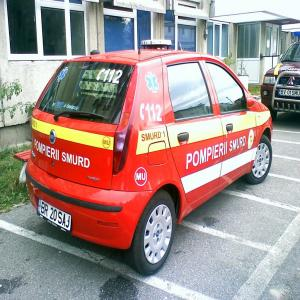Vehicle-registration-plate: (38, 200, 72, 235), (282, 89, 300, 98)
